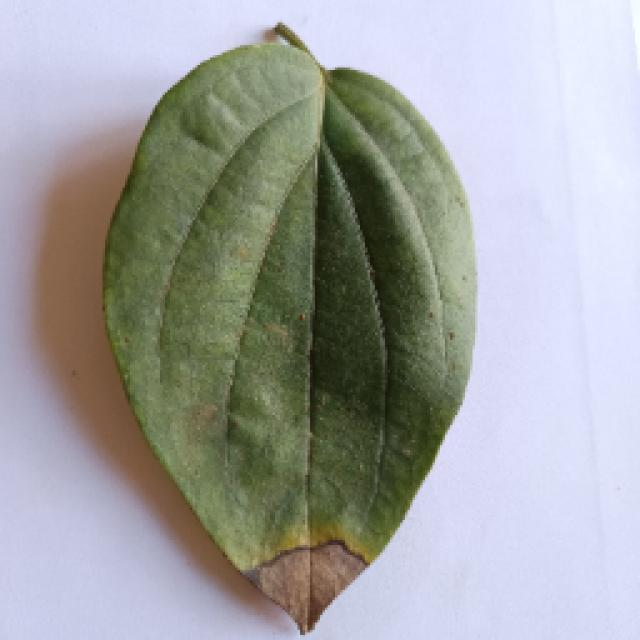footrot: (100, 33, 478, 625)
